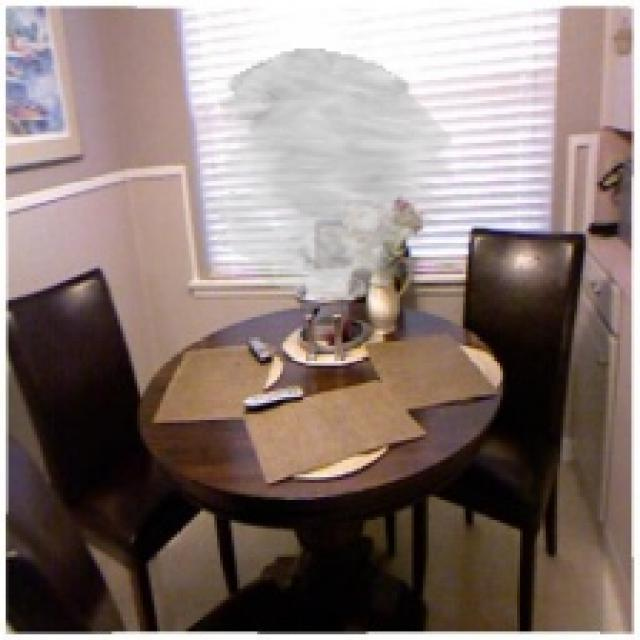Smoke: (208, 48, 454, 300)
